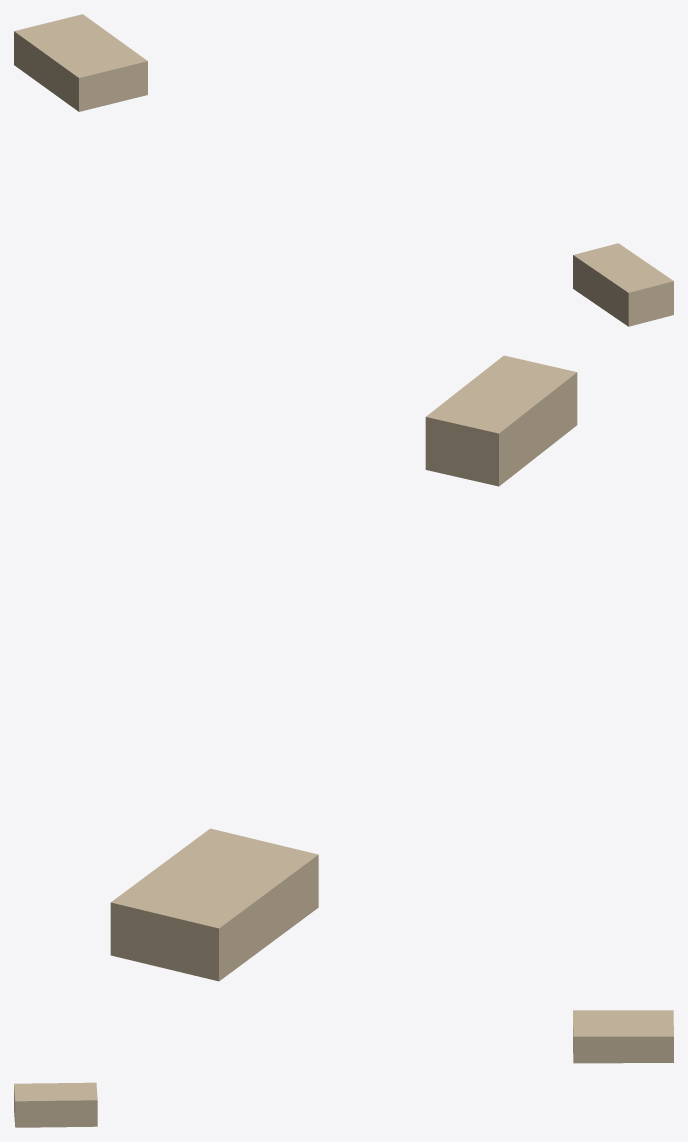
The model's file is -18_-3-estimated-coarse.glb.
3 renders of one model, top to bottom at view 1: azimuth 30°, elevation 25°; view 2: azimuth 150°, elevation 25°; view 3: azimuth 270°, elevation 25°, orthographic. The views are drawn at different scales.
Size of the model in its own units: 88.57 by 12 by 271.
